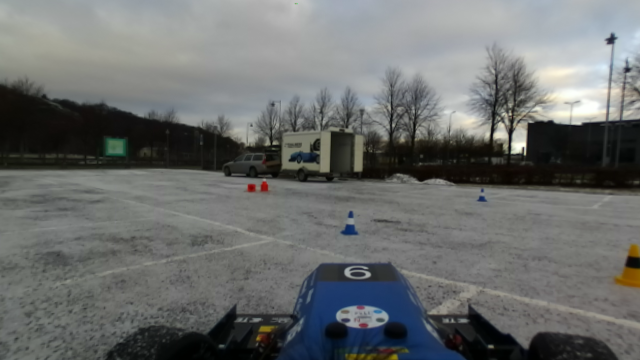blue: (338, 211, 360, 236)
yellow: (612, 241, 640, 288)
